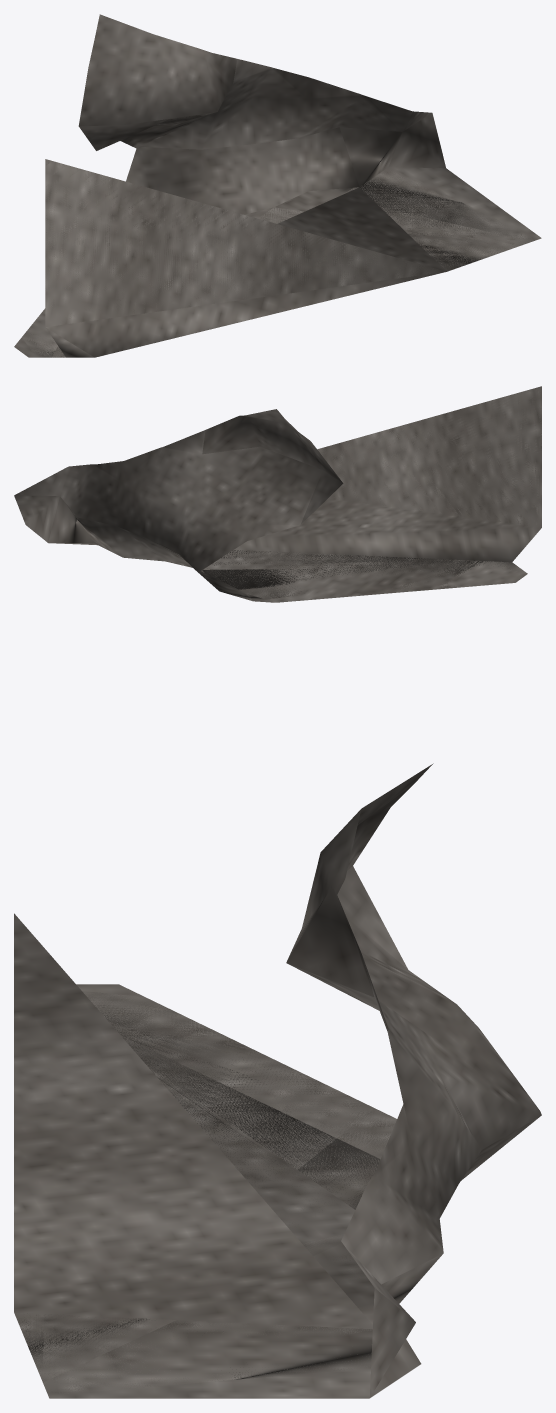
File: cliff_face_0.glb
The picture shows the model from 3 angles, top to bottom: view 1: azimuth 30°, elevation 25°; view 2: azimuth 150°, elevation 25°; view 3: azimuth 270°, elevation 25°; orthographic projection. The views are drawn at different scales.
Parts seen in each view (by area): view 1: cliff_face_0; view 2: cliff_face_0; view 3: cliff_face_0.
Boxes of the visible parts, left/top/right/bottom form: cliff_face_0: left=14, top=14, right=541, bottom=357; cliff_face_0: left=14, top=386, right=541, bottom=602; cliff_face_0: left=14, top=763, right=541, bottom=1398.
Size of the model in its own units: 7 by 2.9 by 3.77.
1 material, 1 textured.
